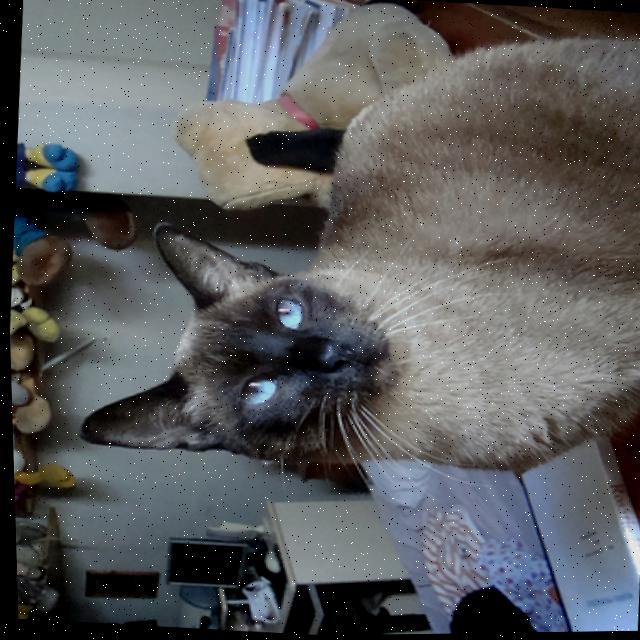Siamese: (60, 0, 640, 492)
